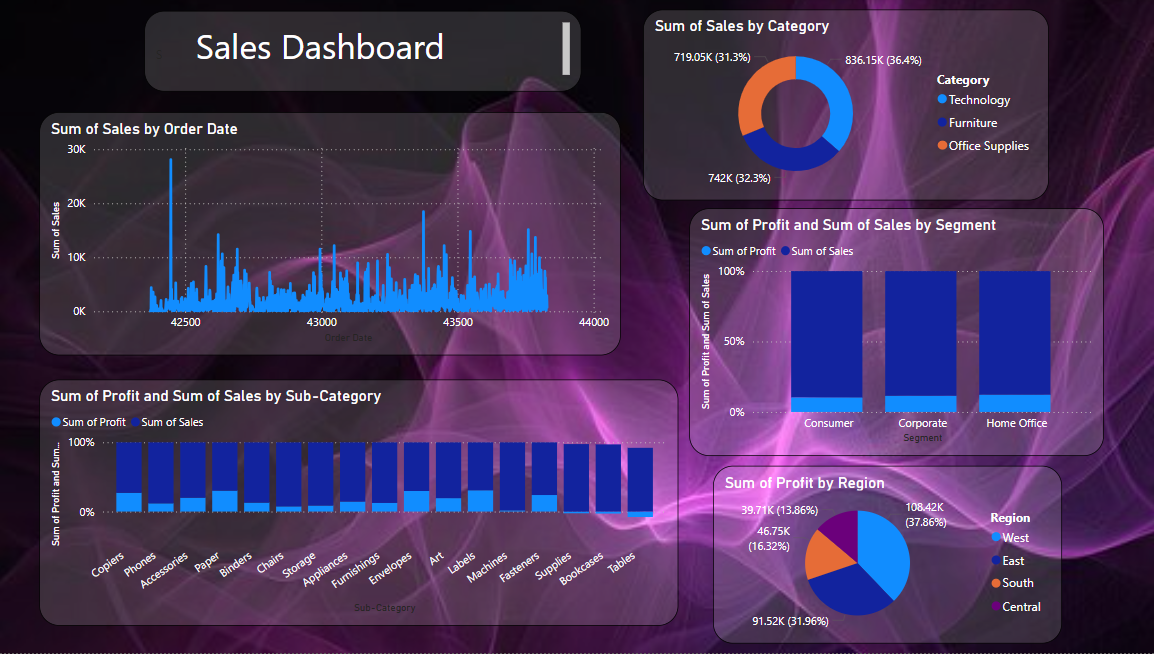

Layout of this report page (visuals, bound fields, positions):
{"tool":"powerbi","page":{"name":"Page 1","canvas":[1280,720],"ordinal":0},"visuals":[{"type":"textbox","box":[160,15.7,480,88.6],"z":0},{"type":"lineChart","fields":{"Category":["Orders.Order Date"],"Y":["Sum(Orders.Sales)"]},"box":[45.7,125.7,638.6,267.1],"z":1},{"type":"donutChart","fields":{"Category":["Orders.Category"],"Y":["Sum(Orders.Sales)"]},"box":[721.4,0,445.7,210],"z":2},{"type":"hundredPercentStackedColumnChart","fields":{"Y":["Sum(Orders.Profit)","Sum(Orders.Sales)"],"Category":["Orders.Segment"]},"box":[784.3,230,455.7,272.9],"z":3},{"type":"hundredPercentStackedColumnChart","fields":{"Category":["Orders.Sub-Category"],"Y":["Sum(Orders.Profit)","Sum(Orders.Sales)"]},"box":[45.7,420,701.4,270],"z":4},{"type":"pieChart","fields":{"Category":["Orders.Region"],"Y":["Sum(Orders.Profit)"]},"box":[798.6,517.1,382.9,195.7],"z":5}]}

Visuals, with their boxes in screenshot pixels (x1, y1, x2, y2), scaled from the page's 1280x720 canvas onto the 1154x654 screenshot:
textbox: l=144, t=14, r=577, b=95
lineChart - Orders.Order Date x Sum(Orders.Sales): l=41, t=114, r=617, b=357
donutChart - Orders.Category x Sum(Orders.Sales): l=650, t=0, r=1052, b=191
hundredPercentStackedColumnChart - Sum(Orders.Profit) x Sum(Orders.Sales): l=707, t=209, r=1118, b=457
hundredPercentStackedColumnChart - Orders.Sub-Category x Sum(Orders.Profit): l=41, t=382, r=674, b=627
pieChart - Orders.Region x Sum(Orders.Profit): l=720, t=470, r=1065, b=647
